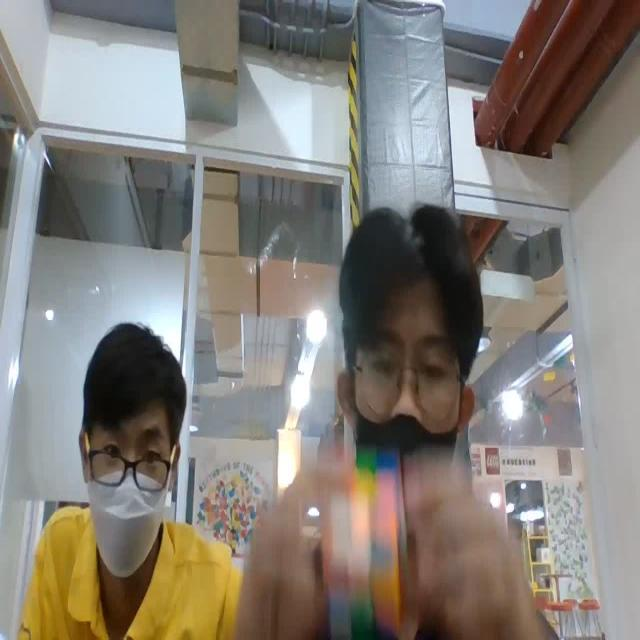Rub: (322, 445, 416, 640)
